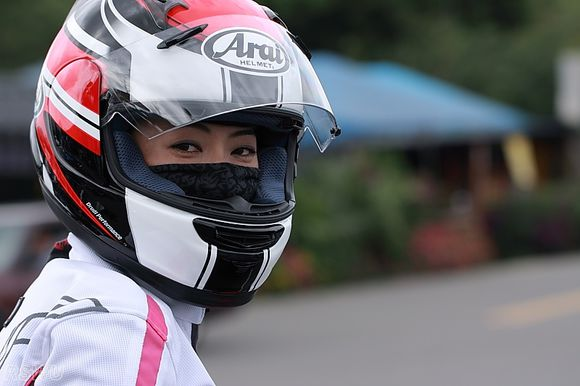face_mask: (130, 108, 260, 263)
